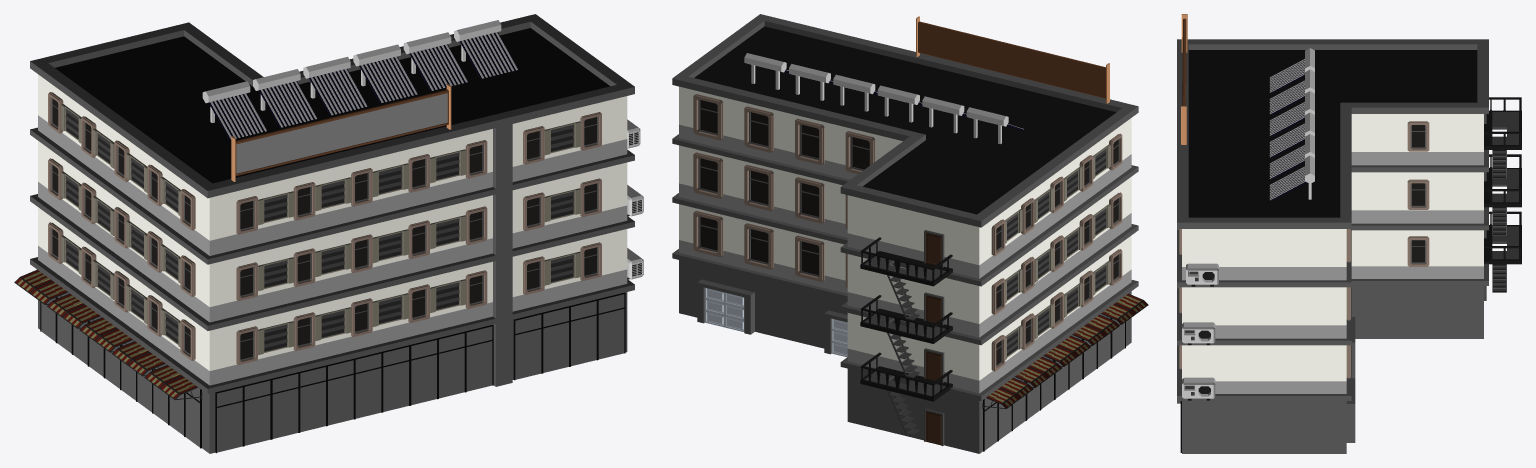
Rendered from House 8.fbx.
3 views of the same model, side by side, from view 1: azimuth 30°, elevation 25°; view 2: azimuth 150°, elevation 25°; view 3: azimuth 270°, elevation 25° (orthographic). The views are drawn at different scales.
Visible parts, largest first — view 1: House 8; view 2: House 8; view 3: House 8.
Part boxes in pixels (left/top/right/bottom): House 8: left=14, top=14, right=643, bottom=453; House 8: left=672, top=14, right=1148, bottom=453; House 8: left=1177, top=14, right=1521, bottom=453.
Size of the model in its own units: 16.48 by 14.32 by 22.47.
